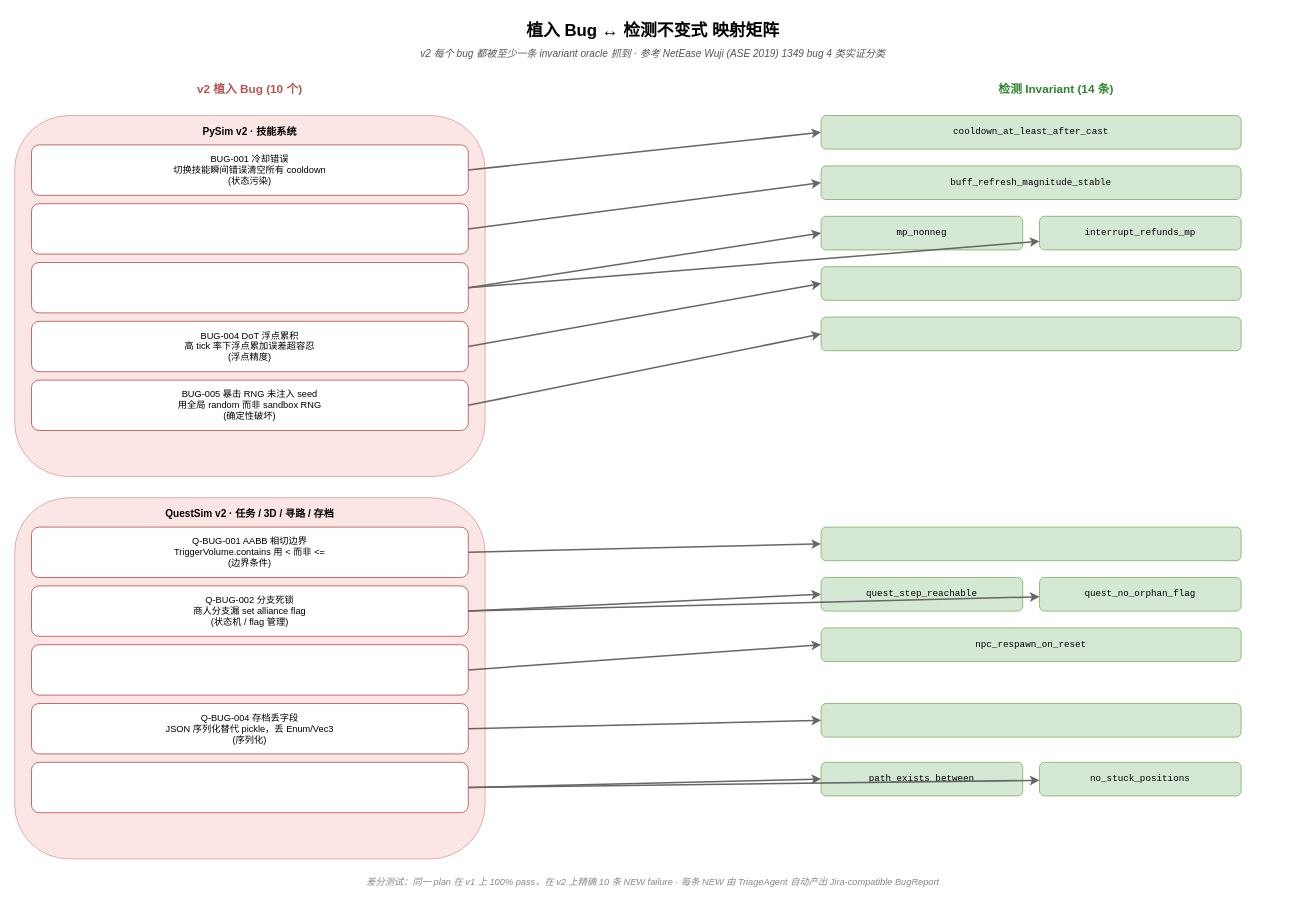
Some shapes in this 1306 by 906 pixel diagram are drawn without their labels. Each missing label, with the centre of its shape:
BUG-002 Buff 叠加规则 同 buff refresh 错误累加 magnitude (应替换) (数值溢出): (x=249, y=228)
BUG-003 状态机死锁 打断未退款 mp + meta 标记骗人 (状态机泄漏): (x=249, y=287)
dot_total_damage_within_tolerance: (x=1030, y=283)
Q-BUG-003 NPC 漏重置 quest_reset 只重置 pos 不重置 state.dict (状态机泄漏): (x=249, y=669)
Q-BUG-005 NavGrid 孤岛 场景加载误标 blocked，仓库入口成孤岛 (场景数据): (x=249, y=787)
replay_deterministic: (x=1030, y=333)
save_load_round_trip: (x=1030, y=720)
trigger_volume_fires_on_enter: (x=1030, y=543)
